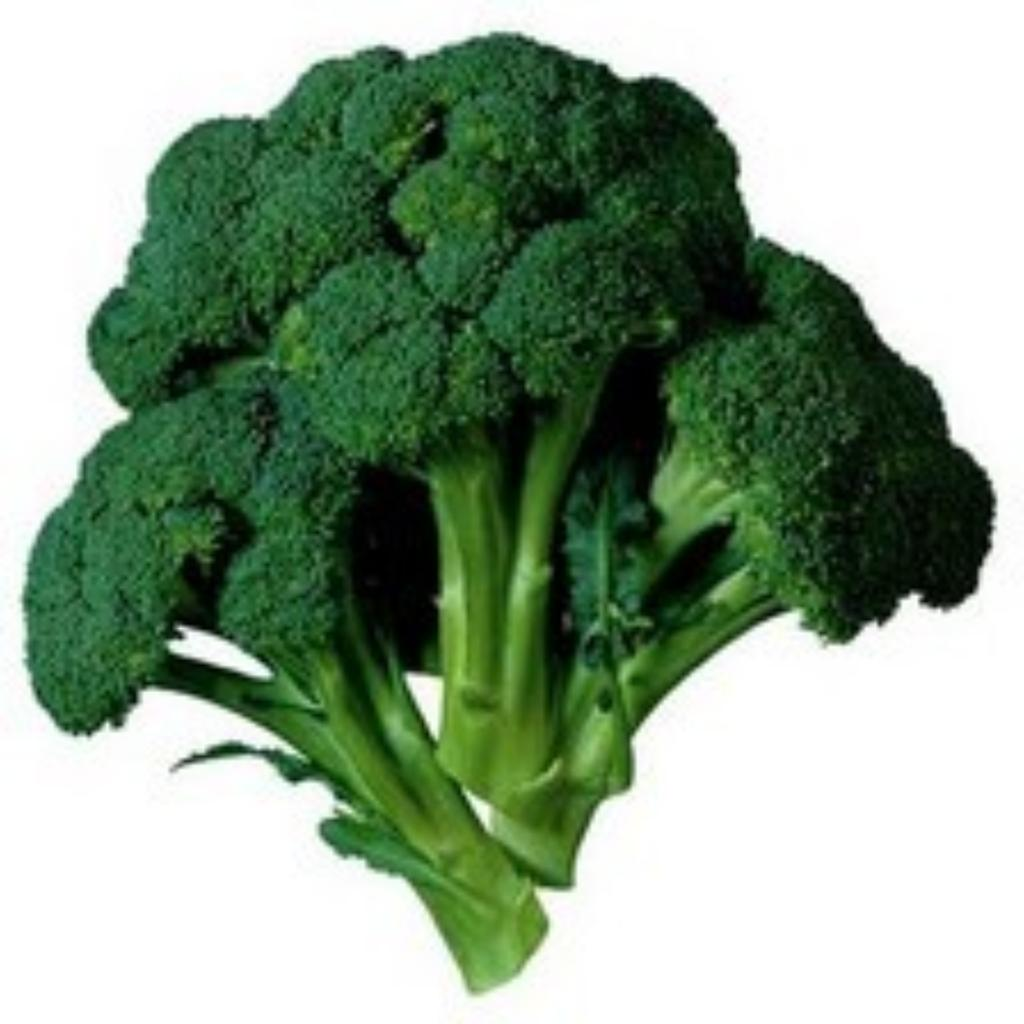Broccoli: (92, 36, 748, 469), (92, 38, 746, 467), (672, 242, 994, 639), (674, 242, 994, 639), (90, 50, 440, 405), (26, 362, 358, 731), (26, 366, 356, 731)
